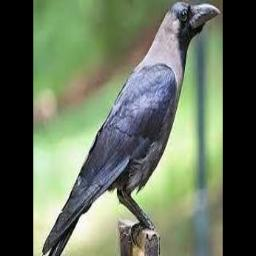Crow: (38, 2, 221, 256)
